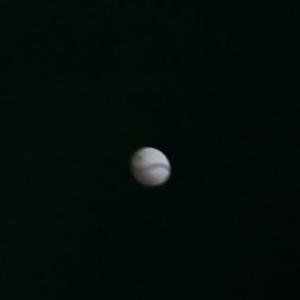ball: (128, 145, 174, 190)
